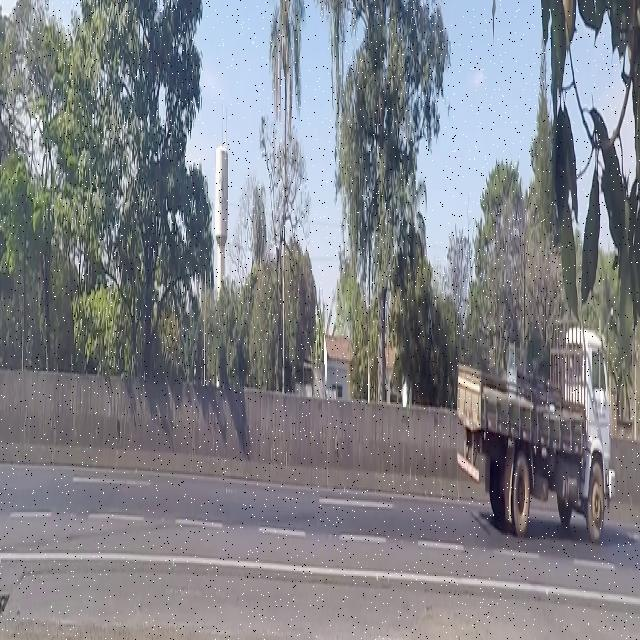-axle: (512, 443, 532, 544), (585, 455, 604, 551)
